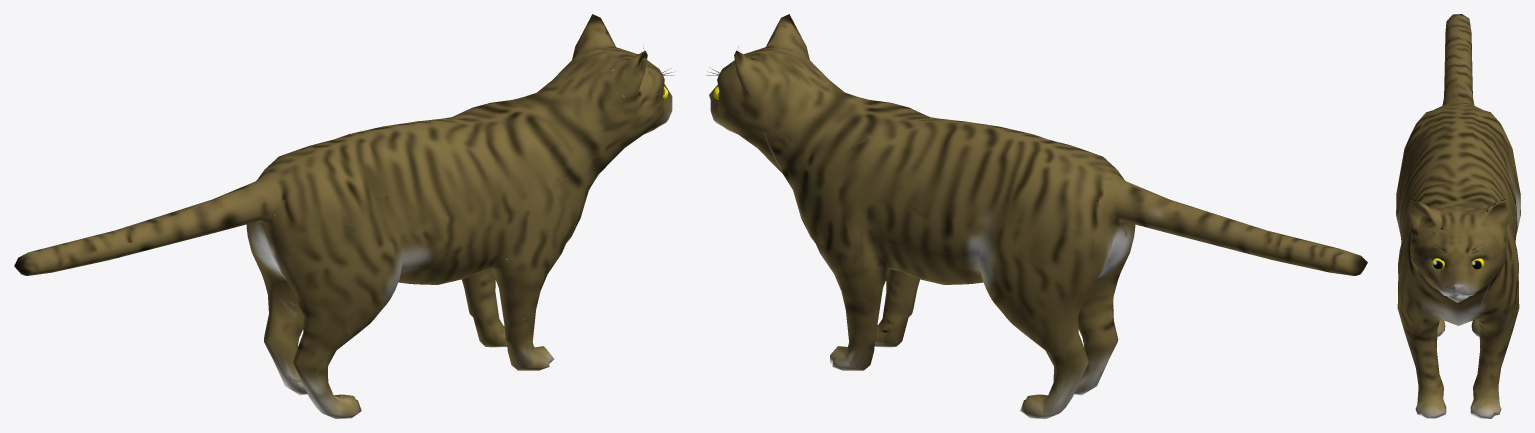
The model's file is tabbypolycat.glb.
3 renders of one model, left to right at view 1: azimuth 30°, elevation 25°; view 2: azimuth 150°, elevation 25°; view 3: azimuth 270°, elevation 25°, orthographic. The views are drawn at different scales.
Visible parts, largest first — view 1: cat; view 2: cat; view 3: cat.
Boxes of the visible parts, left/top/right/bottom form: cat: left=14, top=14, right=674, bottom=418; cat: left=706, top=14, right=1367, bottom=418; cat: left=1396, top=14, right=1520, bottom=418.
Bounding box in the file's own units: 23.49 × 10.21 × 4.45.
Materials: 1 (1 with a texture image).
